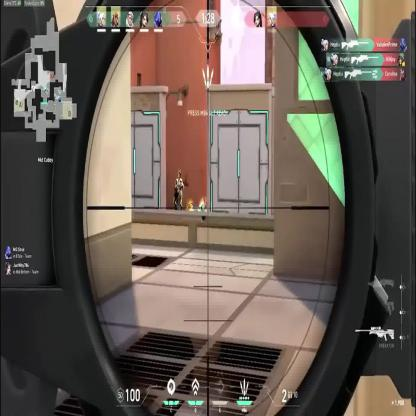enemy: (172, 168, 184, 212)
enemy_head: (177, 170, 181, 179)
